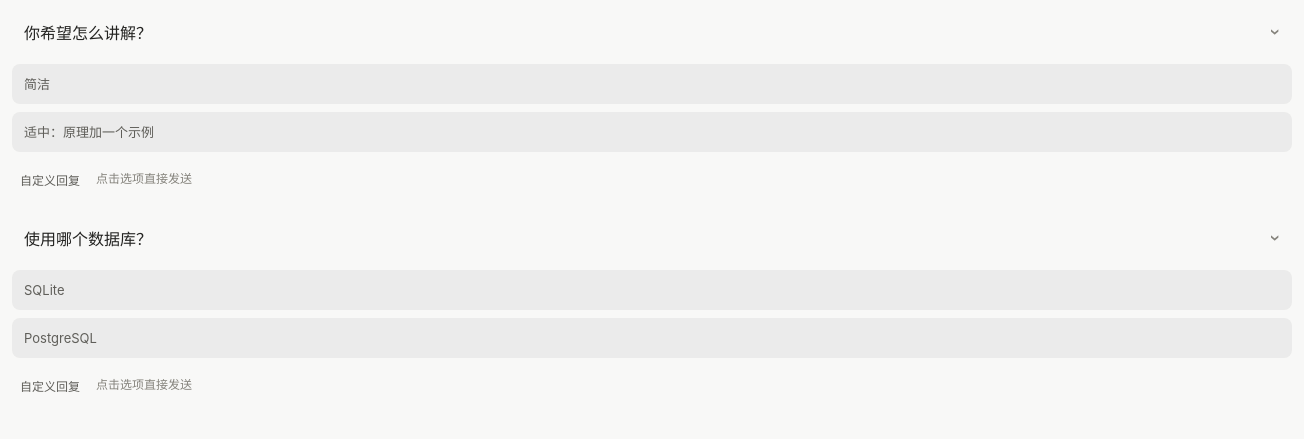
Test: AsyncQuestionMessage › 发送返回 false 后保留选项，由用户显式重试
Step 1. Click the button "简洁" → (37, 84), box top-left (12, 64), bottom-right (1292, 104)
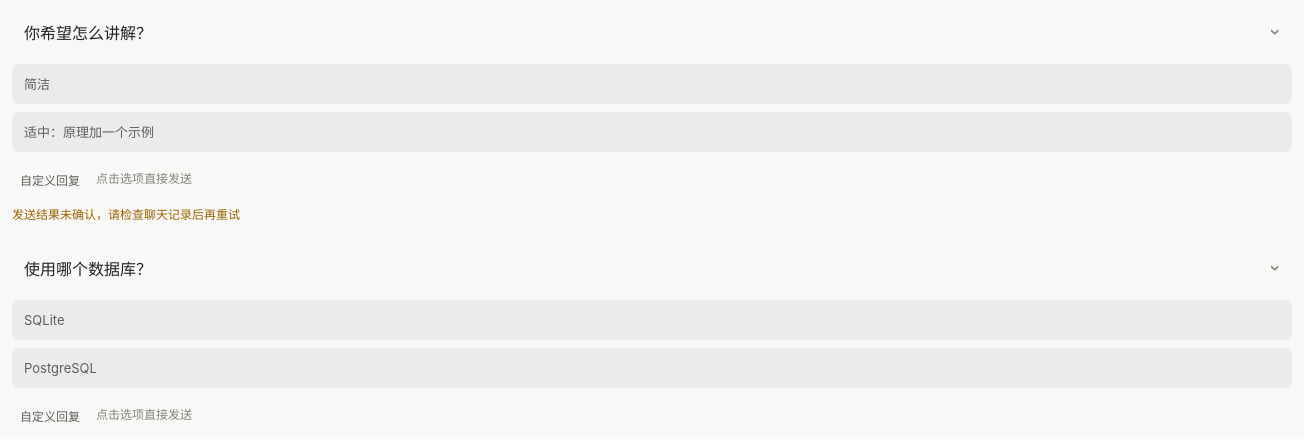
Now the message reads "发送结果未确认，请检查聊天记录后再重试", box top-left (12, 207), bottom-right (240, 222)
Step 2. Click the button "简洁" → (37, 84), box top-left (12, 64), bottom-right (1292, 104)
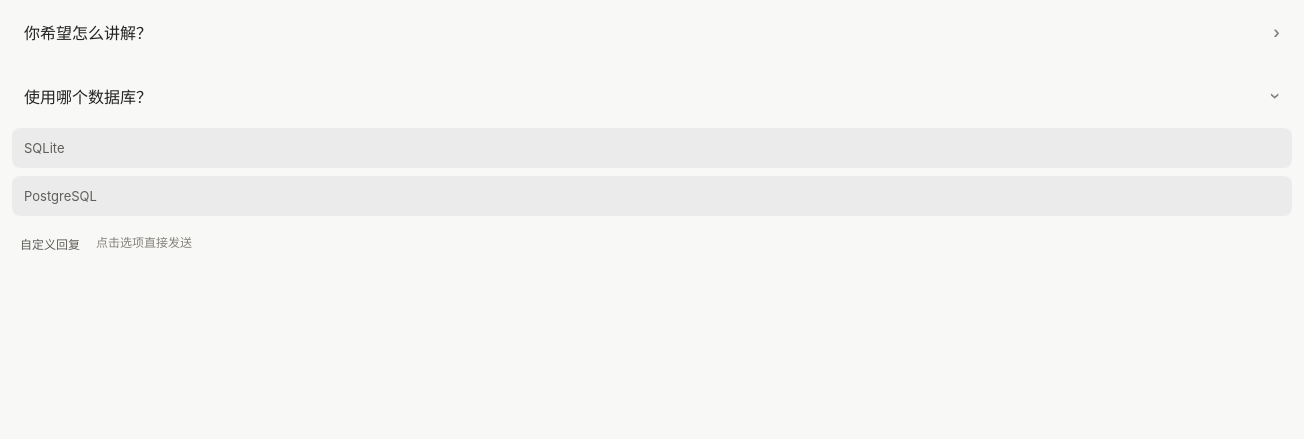
Now the message "发送结果未确认，请检查聊天记录后再重试" is gone
